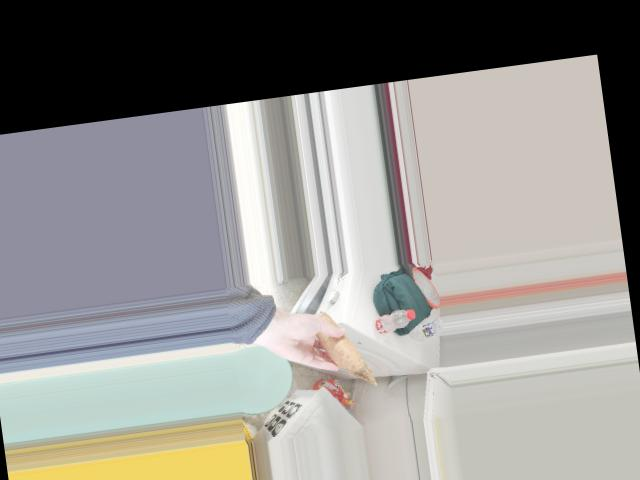sweet_potato: (318, 316, 360, 371)
